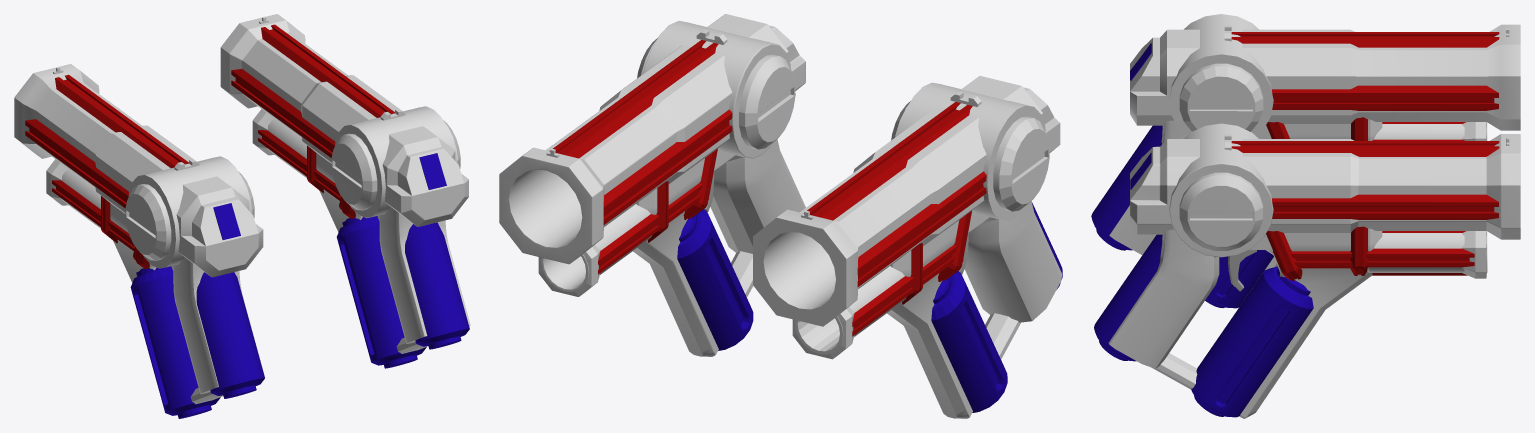
Rendered from GUN_hiandlow.fbx.
3 renders of one model, left to right at view 1: azimuth 30°, elevation 25°; view 2: azimuth 150°, elevation 25°; view 3: azimuth 270°, elevation 25°, orthographic. The views are drawn at different scales.
Parts seen in each view (by area): view 1: pCube38 (×2), pCylinder20 (×2), pCylinder32 (×2), pCube32 (×2), pCylinder33, pCube17 (×2), pCylinder34, pCube16 (×2), pCube34 (×2), pCube19 (×2), polySurface2 (×2), polySurface4 (×2); view 2: pCube38 (×2), pCube32 (×2), pCylinder20 (×2), pCylinder32 (×2), pCube17 (×2), pCube16 (×2), pCube34 (×2), pCube19 (×2), polySurface4 (×2); view 3: pCube38 (×2), pCylinder20 (×2), pCube32 (×2), pCylinder32 (×2), pCube16 (×2), pCube17 (×2), pCube34 (×2), pCube19, pCylinder34, polySurface4 (×2), pCylinder33, pCube25 (+1 smaller).
Part boxes in pixels (<box>): pCube38 (×2): <box>14,14,468,277</box>; pCylinder20 (×2): <box>125,106,460,268</box>; pCylinder32 (×2): <box>130,216,426,418</box>; pCube32 (×2): <box>110,153,470,404</box>; pCylinder33: <box>196,272,264,398</box>; pCube17 (×2): <box>55,24,394,168</box>; pCylinder34: <box>405,222,469,349</box>; pCube16 (×2): <box>25,69,335,208</box>; pCube34 (×2): <box>46,109,306,228</box>; pCube19 (×2): <box>52,130,341,250</box>; polySurface2 (×2): <box>213,153,446,239</box>; polySurface4 (×2): <box>101,145,355,268</box>; pCube38 (×2): <box>499,14,1060,326</box>; pCube32 (×2): <box>633,139,1061,418</box>; pCylinder20 (×2): <box>637,21,1049,220</box>; pCylinder32 (×2): <box>677,209,1007,412</box>; pCube17 (×2): <box>549,40,972,220</box>; pCube16 (×2): <box>603,109,986,287</box>; pCube34 (×2): <box>538,204,906,359</box>; pCube19 (×2): <box>598,183,956,336</box>; polySurface4 (×2): <box>648,148,971,304</box>; pCube38 (×2): <box>1130,24,1520,239</box>; pCylinder20 (×2): <box>1169,14,1273,257</box>; pCube32 (×2): <box>1108,119,1382,418</box>; pCylinder32 (×2): <box>1191,250,1313,417</box>; pCube16 (×2): <box>1272,85,1498,219</box>; pCube17 (×2): <box>1231,32,1499,156</box>; pCube34 (×2): <box>1367,122,1487,278</box>; pCube19: <box>1291,248,1474,268</box>; pCylinder34: <box>1094,234,1162,361</box>; polySurface4 (×2): <box>1266,117,1368,280</box>; pCylinder33: <box>1091,125,1162,250</box>; pCube25: <box>1228,250,1256,291</box>.
Bounding box in the file's own units: 6.99 × 5.6 × 7.88.
